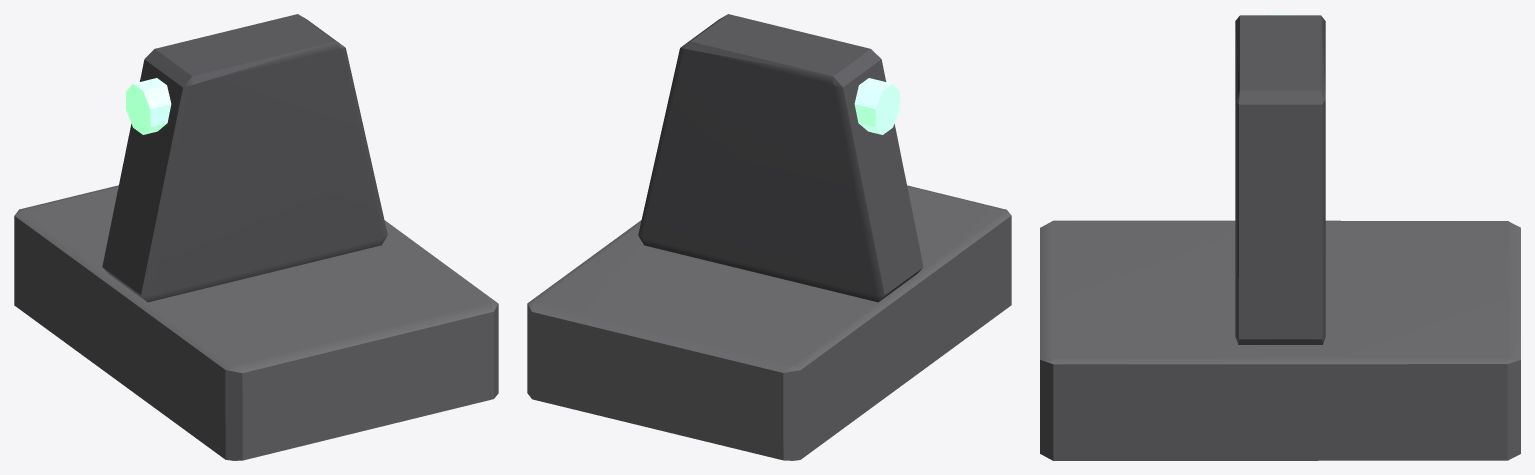
File: hi_fibra_pistola_punto.glb
3 renders of one model, left to right at view 1: azimuth 30°, elevation 25°; view 2: azimuth 150°, elevation 25°; view 3: azimuth 270°, elevation 25°, orthographic. The views are drawn at different scales.
Parts seen in each view (by area): view 1: alzador, cabeza, cabeza_inserto; view 2: alzador, cabeza, cabeza_inserto; view 3: alzador, cabeza.
Part boxes in pixels (x1,y1,x2,y2): alzador: [14, 185, 498, 460]; cabeza: [102, 14, 387, 302]; cabeza_inserto: [126, 78, 171, 134]; alzador: [527, 185, 1011, 460]; cabeza: [638, 14, 923, 302]; cabeza_inserto: [854, 78, 899, 134]; alzador: [1040, 220, 1520, 460]; cabeza: [1235, 15, 1325, 344].
Bounding box in the file's own units: 0.012 × 0.013 × 0.017.
